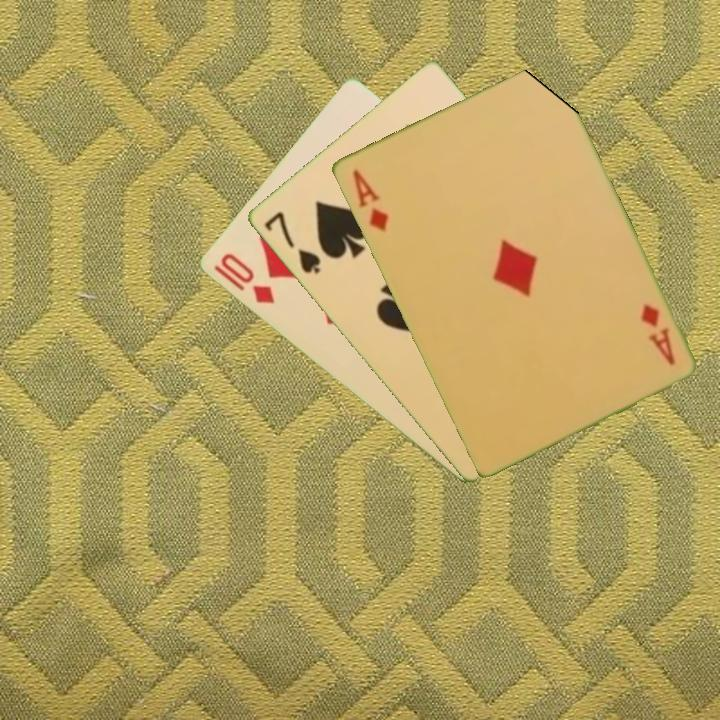10d: (216, 249, 277, 307)
7s: (260, 208, 323, 277)
Ad: (348, 165, 391, 235), (636, 300, 678, 369)
